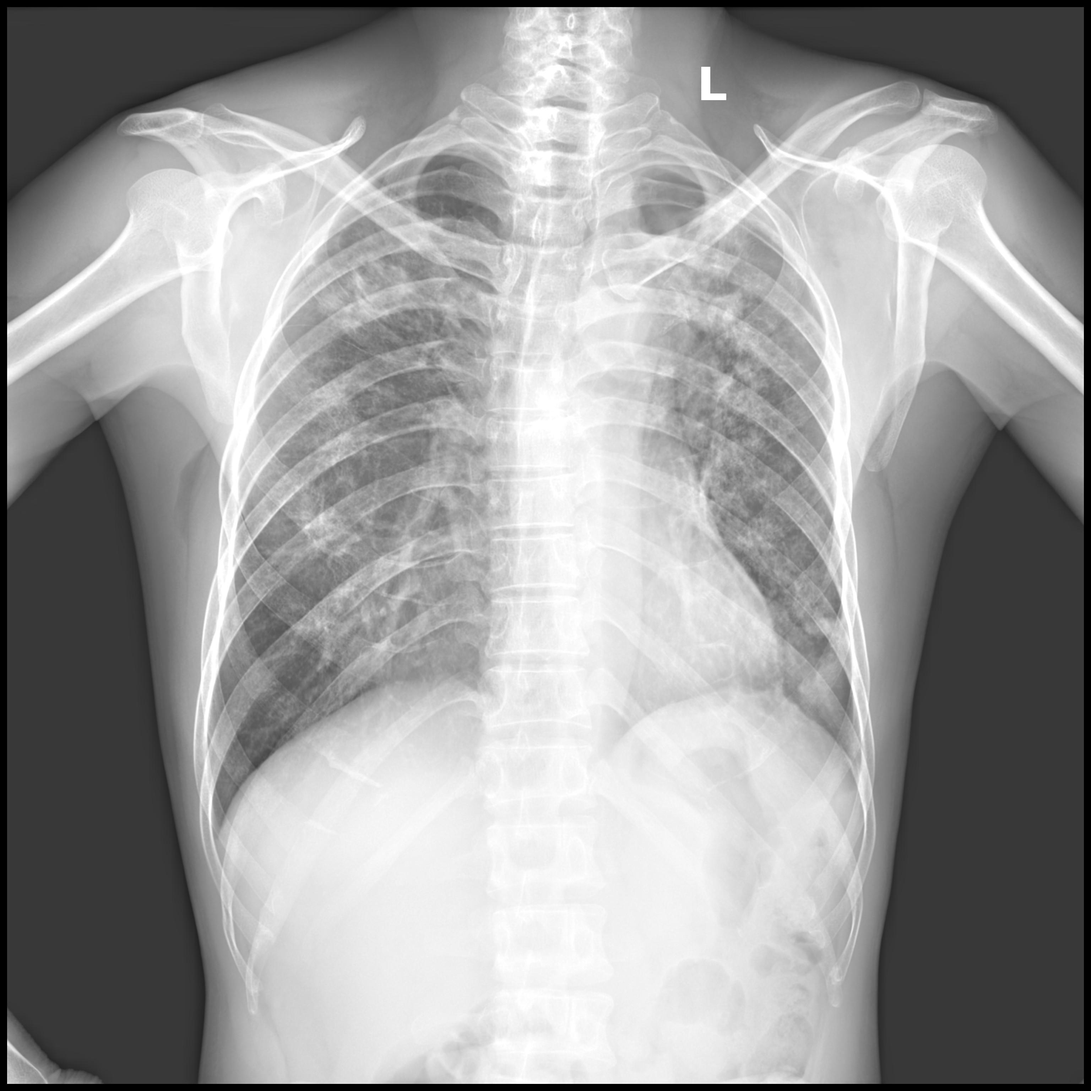Pulmonary fibrosis: (641, 226, 801, 574), (296, 368, 377, 644), (315, 212, 432, 330)
